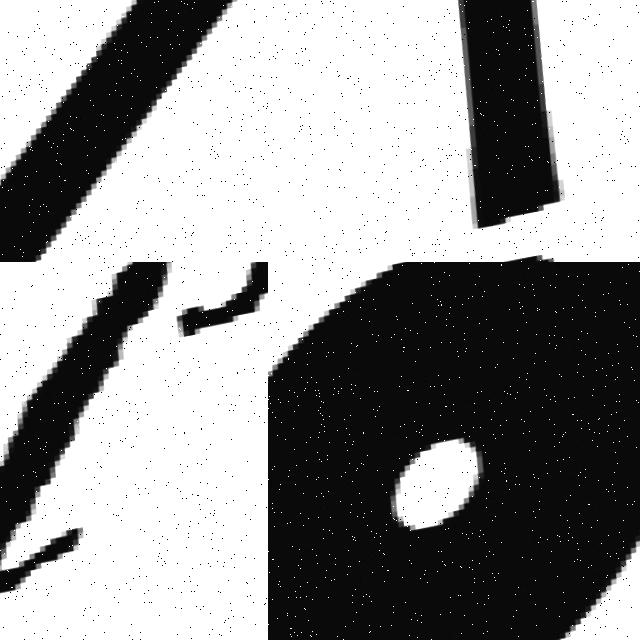J: (0, 262, 268, 640), (390, 0, 640, 262)
O: (268, 262, 640, 640)
Z: (0, 0, 268, 262)
